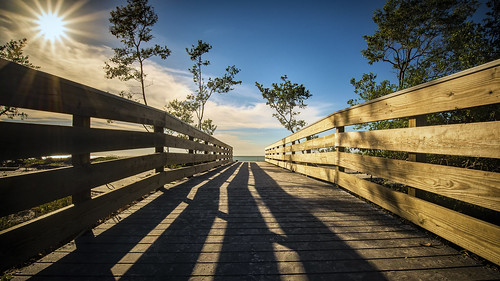sky: (181, 1, 361, 94)
sun: (39, 12, 72, 44)
tree: (352, 1, 498, 103), (165, 29, 238, 133), (107, 1, 169, 99), (255, 65, 312, 132)
